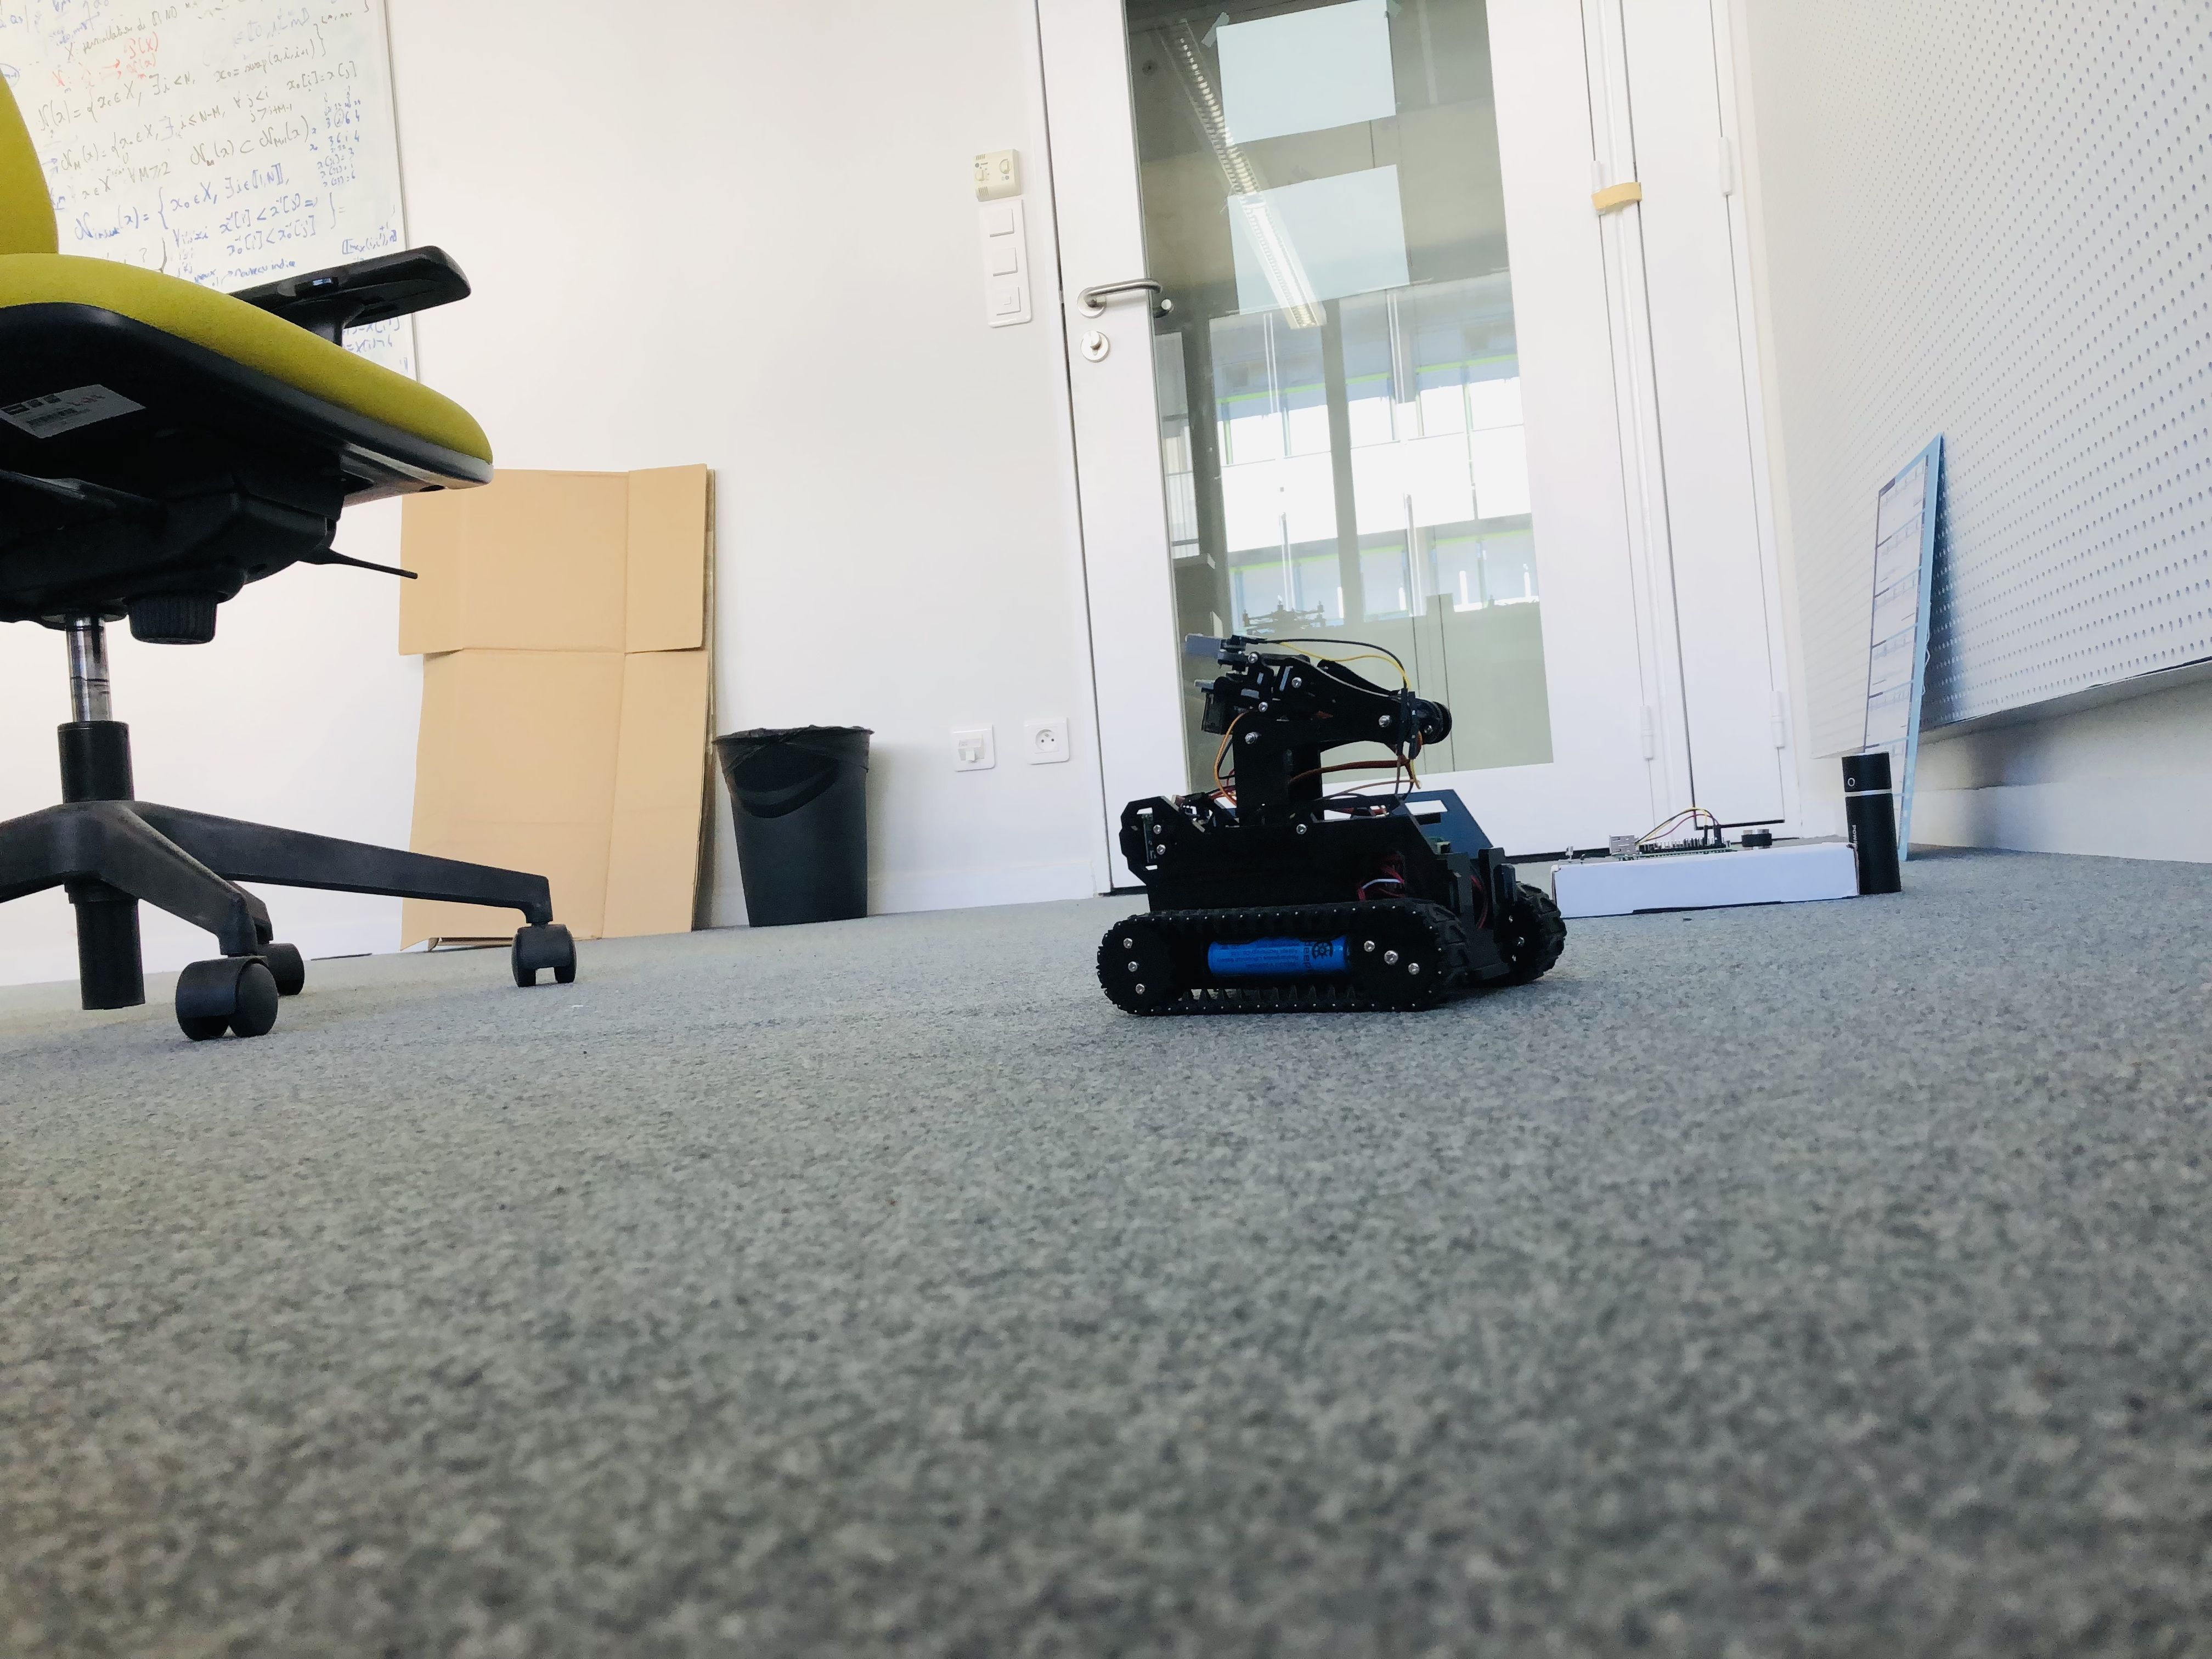rasptank: (1097, 624, 1578, 1021)
